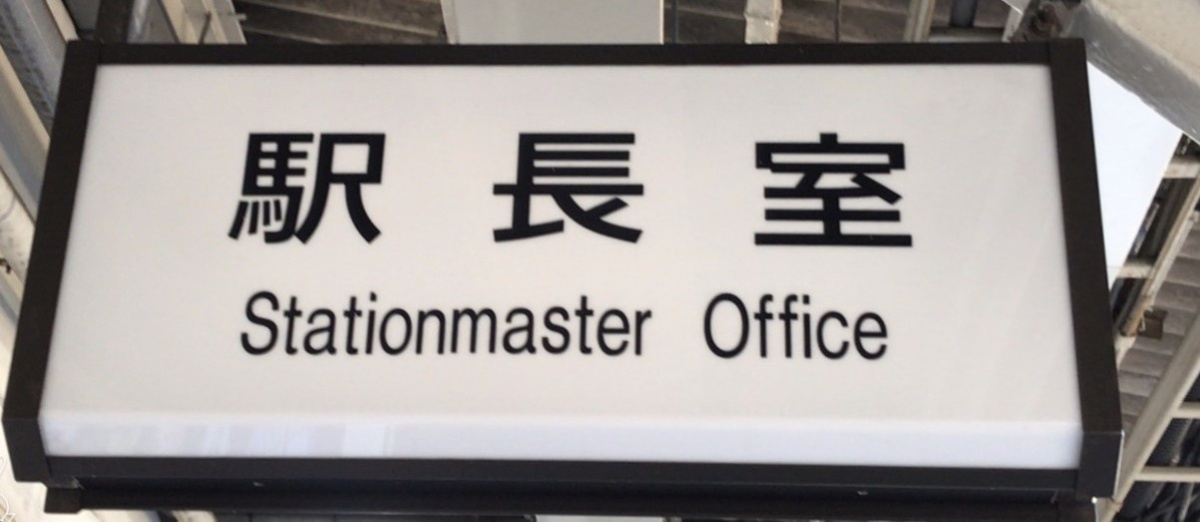text: (257, 132, 272, 251), (273, 132, 288, 251), (289, 132, 304, 251), (305, 132, 320, 251), (321, 132, 336, 251), (337, 132, 352, 251), (353, 132, 368, 251), (369, 132, 384, 251), (385, 132, 400, 251), (401, 132, 416, 251), (417, 132, 432, 251), (433, 132, 448, 251), (449, 132, 464, 251), (465, 132, 480, 251), (481, 132, 496, 251), (497, 132, 512, 251), (513, 132, 528, 251), (529, 132, 544, 251), (545, 132, 560, 251), (561, 132, 576, 251), (577, 132, 592, 251), (593, 132, 608, 251), (609, 132, 624, 251), (625, 132, 640, 251), (641, 132, 656, 251), (657, 132, 672, 251), (673, 132, 688, 251), (689, 132, 704, 251), (705, 132, 720, 251), (721, 132, 736, 251), (737, 132, 752, 251), (753, 132, 768, 251), (769, 132, 784, 251), (785, 132, 800, 251), (801, 132, 816, 251), (817, 132, 832, 251), (833, 132, 848, 251), (849, 132, 864, 251), (865, 132, 880, 251), (881, 132, 896, 251), (897, 132, 912, 251), (244, 132, 256, 251), (257, 292, 272, 358), (273, 292, 288, 358), (289, 292, 304, 358), (305, 292, 320, 358), (321, 292, 336, 358), (337, 292, 352, 358), (353, 292, 368, 358), (369, 292, 384, 358), (385, 292, 400, 358), (401, 292, 416, 358), (417, 292, 432, 358), (433, 292, 448, 358), (449, 292, 464, 358), (465, 292, 480, 358), (481, 292, 496, 358), (497, 292, 512, 358), (513, 292, 528, 358), (529, 292, 544, 358), (545, 292, 560, 358), (561, 292, 576, 358), (577, 292, 592, 358), (593, 292, 608, 358), (609, 292, 624, 358), (625, 292, 640, 358), (705, 294, 720, 360), (721, 294, 736, 360), (737, 294, 752, 360), (753, 294, 768, 360), (769, 294, 784, 360), (785, 294, 800, 360), (801, 294, 816, 360), (817, 294, 832, 360), (833, 294, 848, 360), (849, 294, 864, 360), (865, 294, 880, 360), (244, 292, 256, 358), (641, 292, 653, 358), (881, 294, 888, 360), (913, 132, 915, 251), (703, 294, 704, 360)
